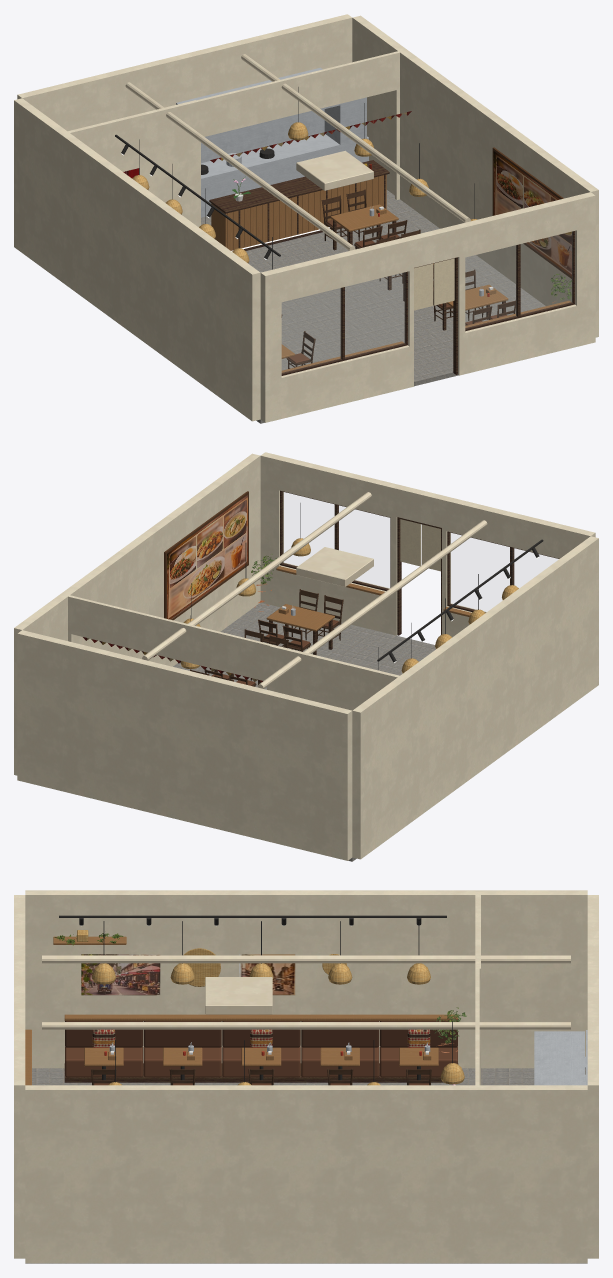
The model's file is tz_taimi_interior.glb.
The picture shows the model from 3 angles, top to bottom: view 1: azimuth 30°, elevation 25°; view 2: azimuth 150°, elevation 25°; view 3: azimuth 270°, elevation 25°; orthographic projection. The views are drawn at different scales.
Parts seen in each view (by area): view 1: WALL_W, WALL_S, WALL_E, S_floor, S_wall, WALL_N, S_steel, S_wood, S_ceil, S_pics, S_wood_d, WALL_Sfix_wood_d (+6 smaller); view 2: WALL_N, WALL_W, WALL_S, WALL_E, S_wall, S_ceil, S_pics, S_floor, WALL_Sfix_wood_d, tz_taimi_interior_inst, WALL_Sfix_cloth_b, S_vc (+3 smaller); view 3: WALL_E, WALL_W, S_ceil, S_leather, S_wood, S_leather_d, WALL_N, WALL_S, S_pics, S_wicker, S_floor, S_steel (+6 smaller).
Boxes of the visible parts, x1=… form: WALL_W: x1=14, y1=98, x2=260, y2=421; WALL_S: x1=260, y1=192, x2=595, y2=422; WALL_E: x1=352, y1=15, x2=598, y2=337; S_floor: x1=201, y1=190, x2=545, y2=423; S_wall: x1=68, y1=51, x2=399, y2=227; WALL_N: x1=17, y1=14, x2=352, y2=171; S_steel: x1=176, y1=67, x2=483, y2=296; S_wood: x1=211, y1=174, x2=508, y2=358; S_ceil: x1=125, y1=54, x2=470, y2=250; S_pics: x1=493, y1=151, x2=571, y2=276; S_wood_d: x1=209, y1=160, x2=505, y2=330; WALL_Sfix_wood_d: x1=281, y1=231, x2=574, y2=375; WALL_N: x1=17, y1=630, x2=352, y2=860; WALL_W: x1=352, y1=536, x2=598, y2=859; WALL_S: x1=260, y1=452, x2=595, y2=637; WALL_E: x1=14, y1=453, x2=260, y2=775; S_wall: x1=68, y1=595, x2=399, y2=710; S_ceil: x1=142, y1=492, x2=487, y2=688; S_pics: x1=167, y1=495, x2=247, y2=619; S_floor: x1=173, y1=602, x2=435, y2=861; WALL_Sfix_wood_d: x1=280, y1=490, x2=558, y2=635; tz_taimi_interior_inst: x1=190, y1=589, x2=343, y2=686; WALL_Sfix_cloth_b: x1=400, y1=519, x2=440, y2=571; S_vc: x1=164, y1=491, x2=512, y2=669; WALL_E: x1=25, y1=1085, x2=587, y2=1263; WALL_W: x1=25, y1=890, x2=587, y2=1068; S_ceil: x1=42, y1=955, x2=570, y2=1029; S_leather: x1=65, y1=1047, x2=457, y2=1085; S_wood: x1=53, y1=936, x2=458, y2=1066; S_leather_d: x1=65, y1=1021, x2=457, y2=1047; WALL_N: x1=587, y1=895, x2=598, y2=1258; WALL_S: x1=14, y1=895, x2=25, y2=1258; S_pics: x1=81, y1=954, x2=295, y2=995; S_wicker: x1=77, y1=930, x2=464, y2=1085; S_floor: x1=25, y1=1068, x2=587, y2=1263; S_steel: x1=109, y1=1030, x2=587, y2=1085.
Size of the model in its own units: 8.4 by 3.5 by 10.4.
Materials: 23 (19 with a texture image).
